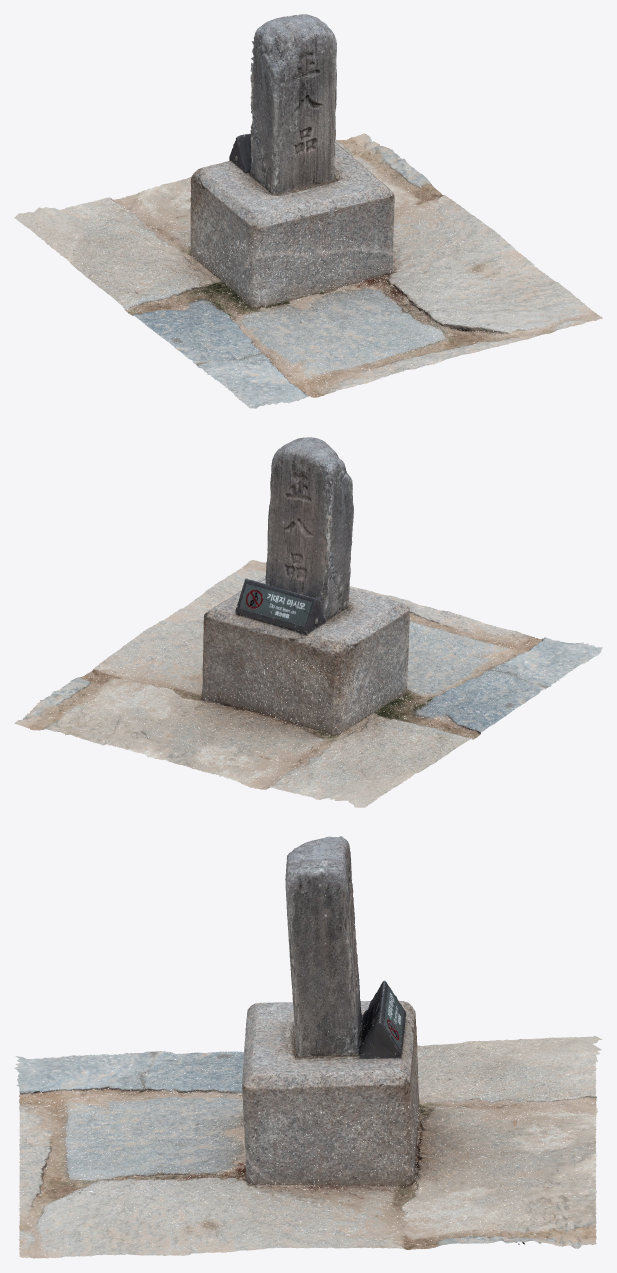
The model's file is pumgye8.glb.
3 views of the same model, one above another, from view 1: azimuth 30°, elevation 25°; view 2: azimuth 150°, elevation 25°; view 3: azimuth 270°, elevation 25° (orthographic). The views are drawn at different scales.
Parts seen in each view (by area): view 1: Object_14, Object_6, Object_12, Object_15, Object_4, Object_2, Object_7, Object_13, Object_8, Object_10, Object_3, Object_16 (+3 smaller); view 2: Object_10, Object_3, Object_13, Object_5, Object_15, Object_7, Object_4, Object_2, Object_8, Object_16, Object_11, Object_6 (+3 smaller); view 3: Object_5, Object_11, Object_12, Object_13, Object_6, Object_3, Object_14, Object_7, Object_8, Object_15, Object_16, Object_2 (+4 smaller).
Part boxes in pixels (<box>): Object_14: <box>91,211,498,395</box>; Object_6: <box>84,180,483,393</box>; Object_12: <box>411,232,591,346</box>; Object_15: <box>79,207,551,394</box>; Object_4: <box>167,138,375,325</box>; Object_2: <box>250,14,336,172</box>; Object_7: <box>161,15,475,407</box>; Object_13: <box>45,165,494,271</box>; Object_8: <box>14,119,487,408</box>; Object_10: <box>190,16,394,263</box>; Object_3: <box>197,62,367,230</box>; Object_16: <box>65,16,602,362</box>; Object_10: <box>218,441,381,730</box>; Object_3: <box>202,502,377,723</box>; Object_13: <box>59,631,427,787</box>; Object_5: <box>124,576,408,795</box>; Object_15: <box>158,588,546,778</box>; Object_7: <box>236,437,598,732</box>; Object_4: <box>223,562,485,720</box>; Object_2: <box>268,437,353,595</box>; Object_8: <box>46,559,602,807</box>; Object_16: <box>14,444,538,776</box>; Object_11: <box>94,591,255,753</box>; Object_6: <box>187,623,581,786</box>; Object_5: <box>250,1012,597,1190</box>; Object_11: <box>264,1019,541,1248</box>; Object_12: <box>18,1191,278,1258</box>; Object_13: <box>273,1020,596,1249</box>; Object_6: <box>66,1051,596,1195</box>; Object_3: <box>289,912,421,1175</box>; Object_14: <box>19,1056,554,1204</box>; Object_7: <box>14,838,419,1195</box>; Object_8: <box>15,961,602,1244</box>; Object_15: <box>19,1012,471,1251</box>; Object_16: <box>18,837,596,1258</box>; Object_2: <box>285,836,359,995</box>.
Size of the model in its own units: 1.41 by 1 by 1.69.
2 materials, 2 textured.
